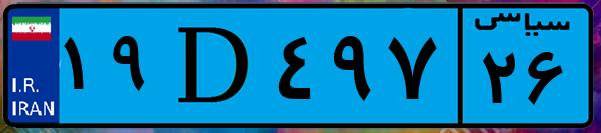1: (57, 26, 110, 100)
2: (475, 38, 525, 113)
4: (270, 28, 330, 110)
6: (525, 38, 570, 115)
7: (385, 28, 445, 110)
9: (330, 28, 385, 110), (110, 28, 158, 98)
D: (158, 12, 270, 120)
